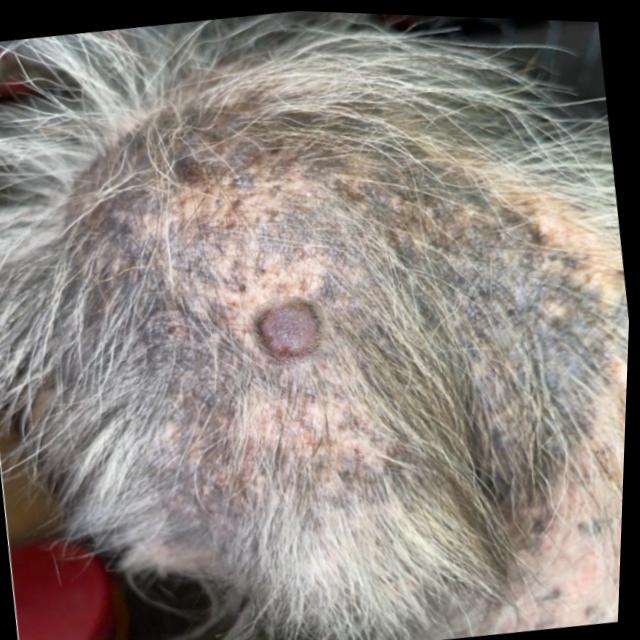ringworm: (225, 267, 353, 386)
